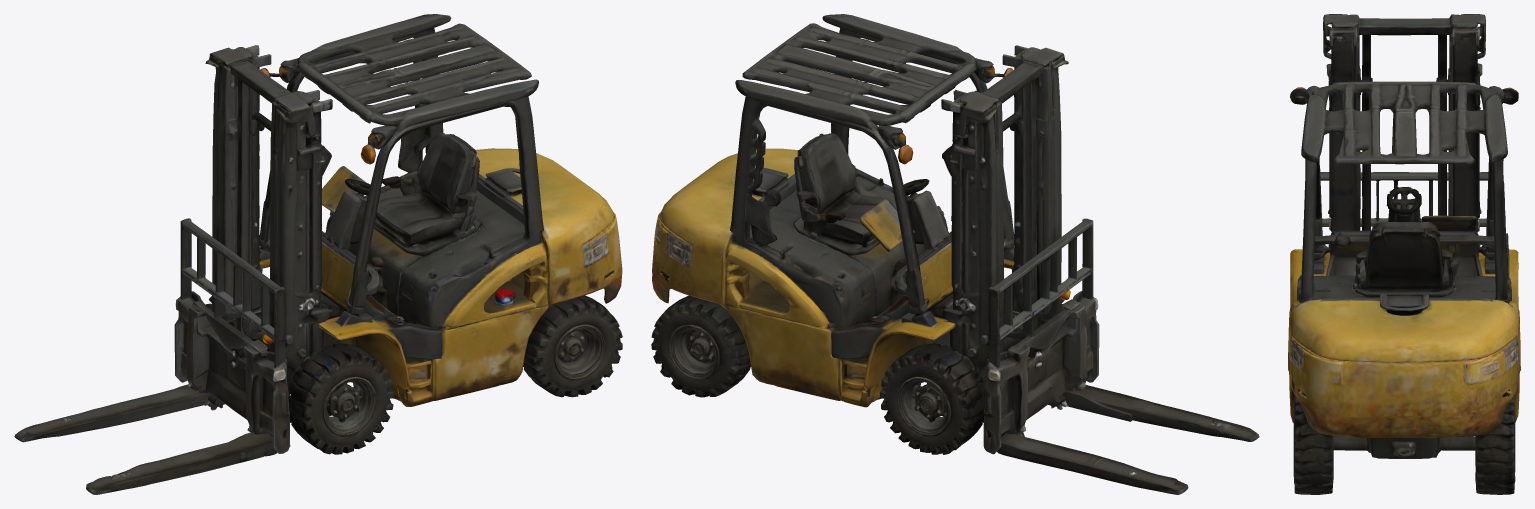
Rendered from forklift.glb.
3 views of the same model, side by side, from view 1: azimuth 30°, elevation 25°; view 2: azimuth 150°, elevation 25°; view 3: azimuth 270°, elevation 25° (orthographic).
Bounding box in the file's own units: 0.9793 × 0.6029 × 0.3686.
1 material, 1 textured.
